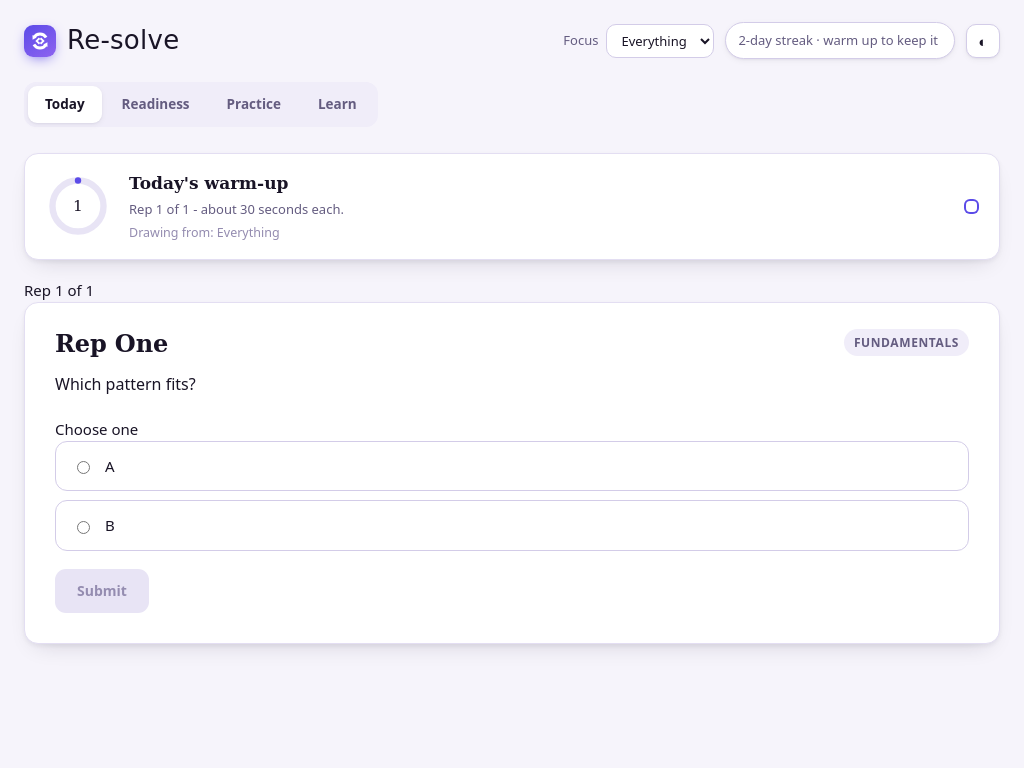
Test: Session (daily loop, issue #19) › declining the main exercise still leaves the day complete
This screenshot has width=1024, height=768.
Click the radio button labelled "A": coordinates (84, 468) [77,461,90,474]
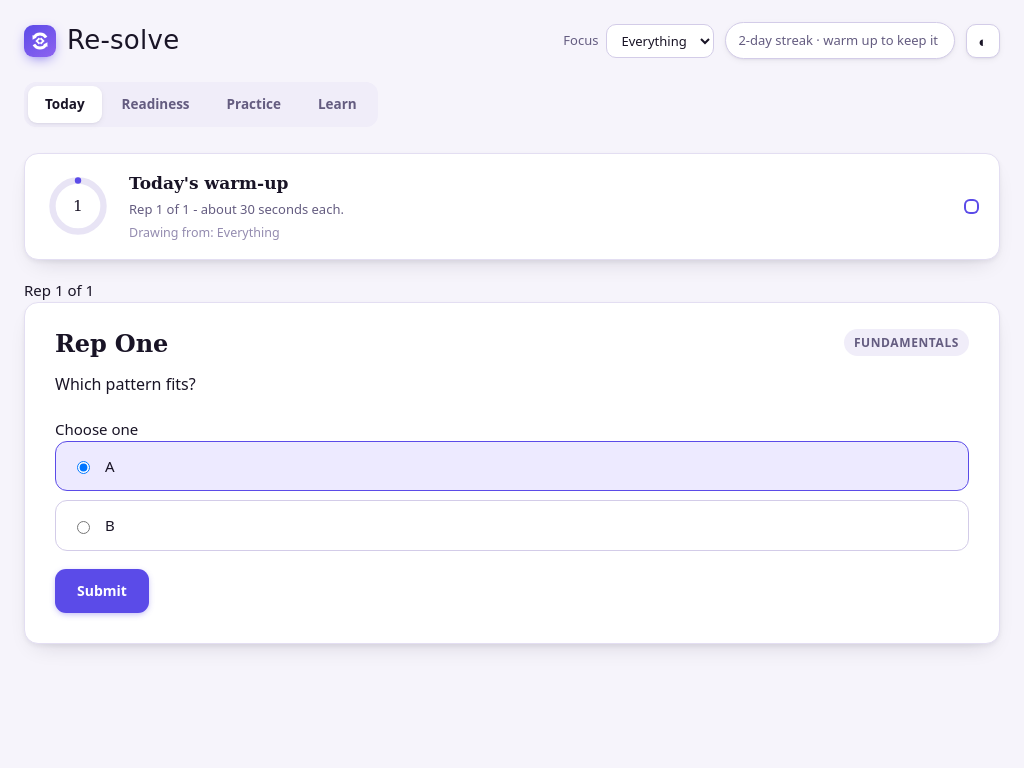
Click the button "Submit": coordinates (102, 591) [55,569,149,613]
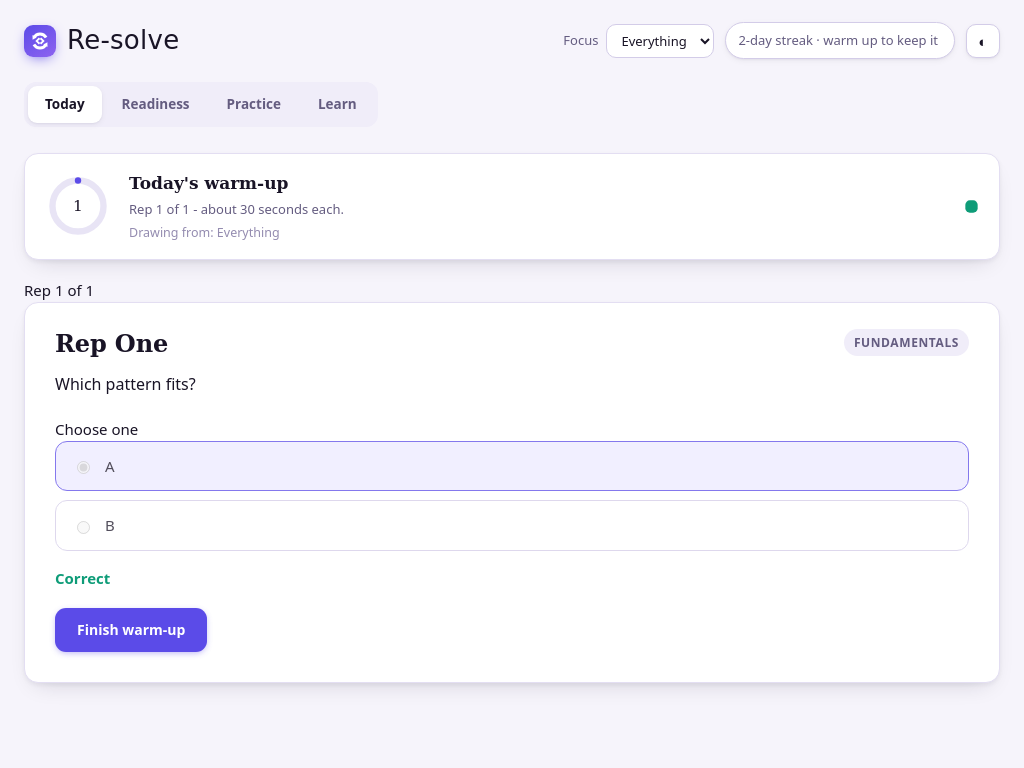
Click the button "Finish warm-up": coordinates (131, 630) [55,608,207,652]
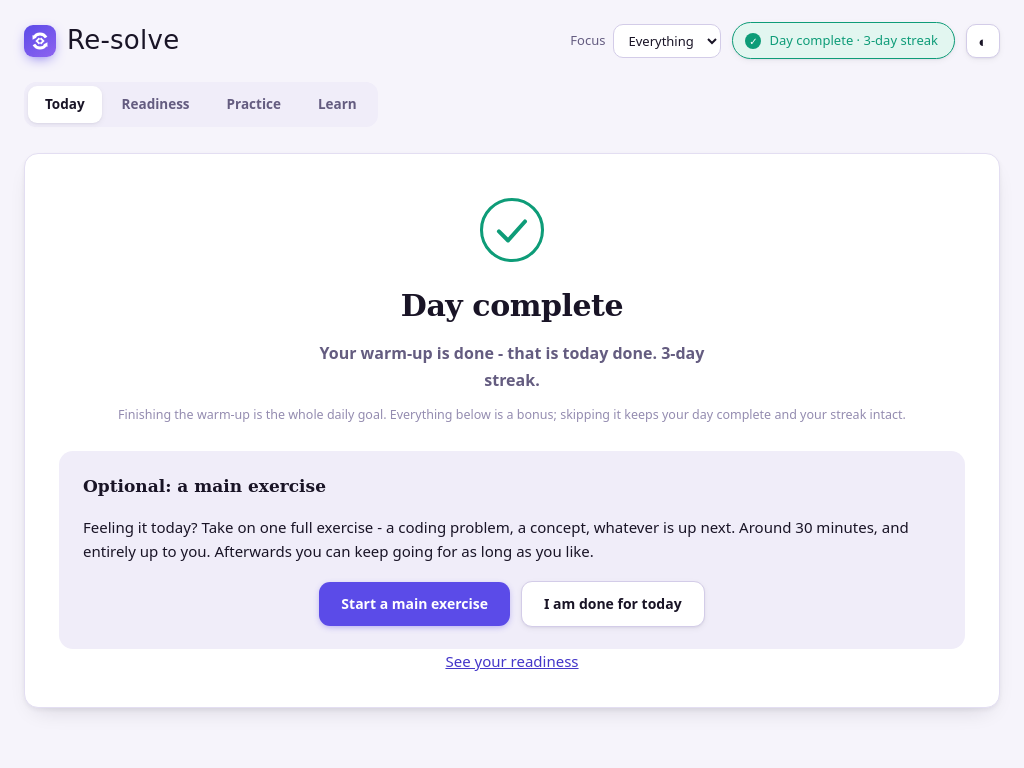
Expected: the heading "Day complete" is shown, [401,288,623,323]
Click the button "I am done for today": coordinates (613, 604) [521,581,705,627]
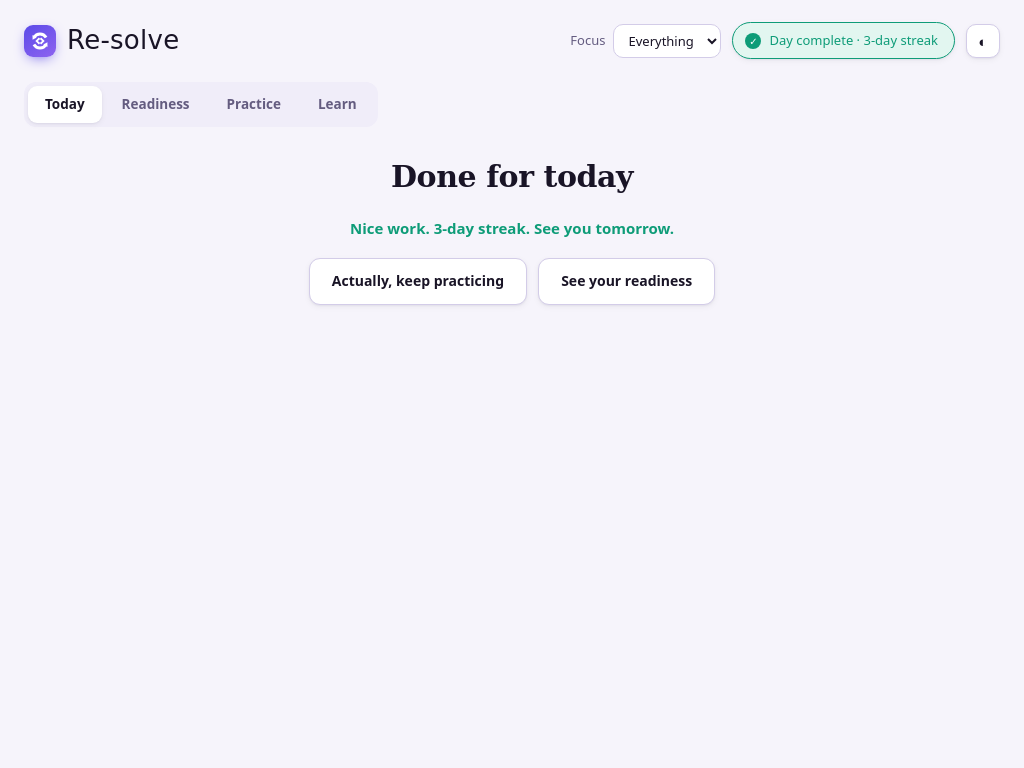
Expected: the heading "Done for today" is shown, [391,159,633,194]
Expected: the text "Nice work. 3-day streak. See you tomorrow." is shown, [350,218,674,238]
